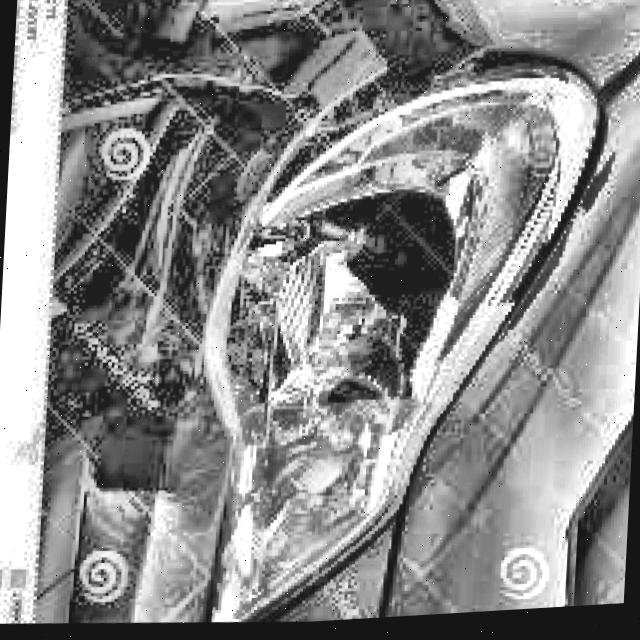head_lamp: (206, 95, 570, 446)
